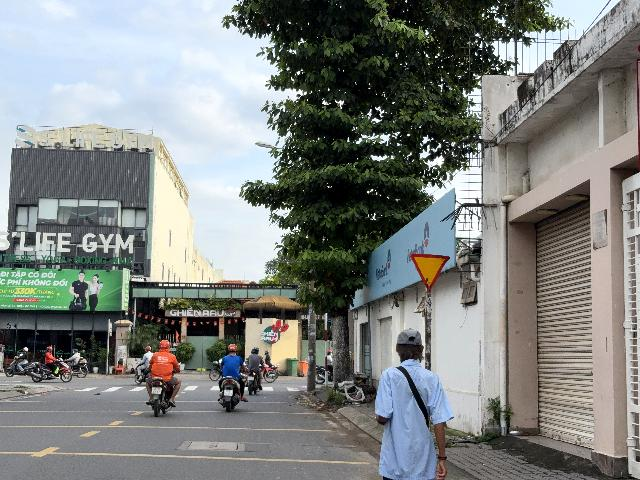giao-nhau-voi-duong-uu-tien: (410, 253, 450, 291)
